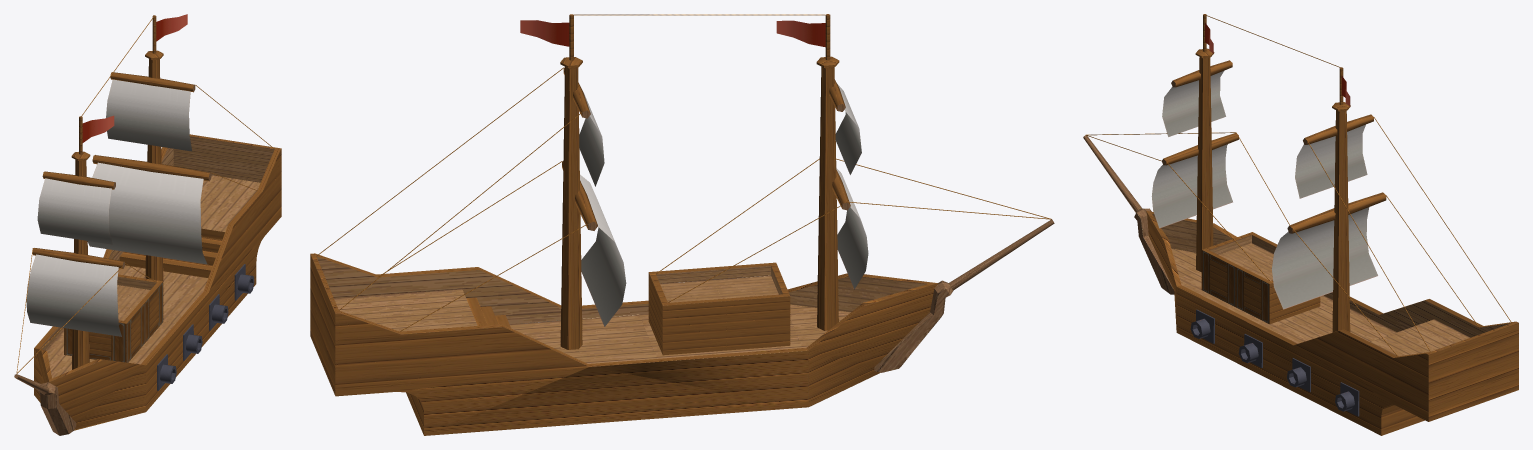
Rendered from Barca2.fbx.
The picture shows the model from 3 angles, left to right: view 1: azimuth 30°, elevation 25°; view 2: azimuth 150°, elevation 25°; view 3: azimuth 270°, elevation 25°; orthographic projection. The views are drawn at different scales.
Visible parts, largest first — view 1: defaultMaterial.017; view 2: defaultMaterial.017; view 3: defaultMaterial.017.
Boxes of the visible parts, x1,y1,x2,y2 form: defaultMaterial.017: (14, 14, 281, 435); defaultMaterial.017: (310, 14, 1054, 435); defaultMaterial.017: (1083, 14, 1518, 435).
Size of the model in its own units: 16.07 by 10.91 by 13.92.
